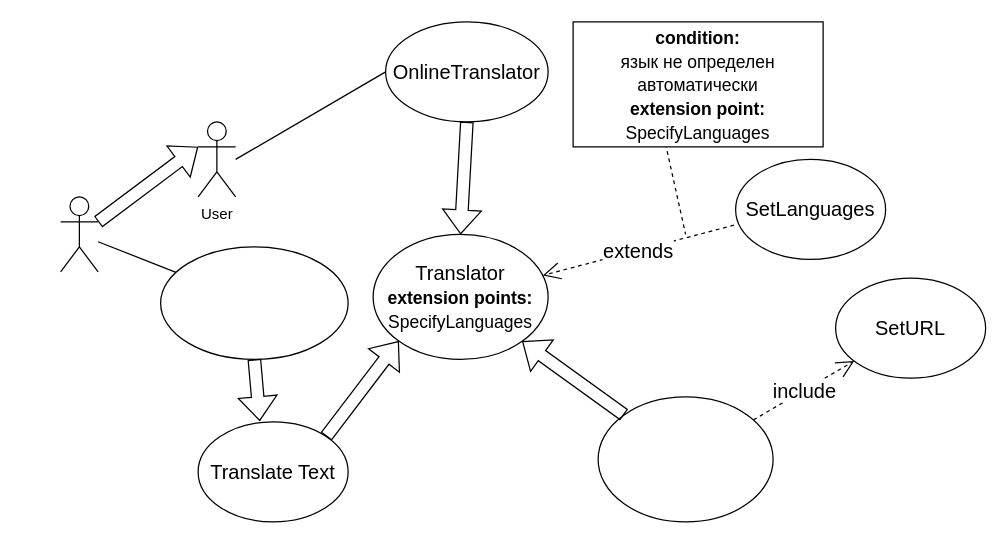
Image size: 1008x544. Some labels were removed from this diagram. The shapes that lost their labels are listed below. From the top down, each one's centre as x and y in pixels, then its label:
At (x=78, y=234): "ExperiencedUser".
At (x=253, y=302): "ProposeTranslation".
At (x=685, y=459): "TranslateWebPage".
